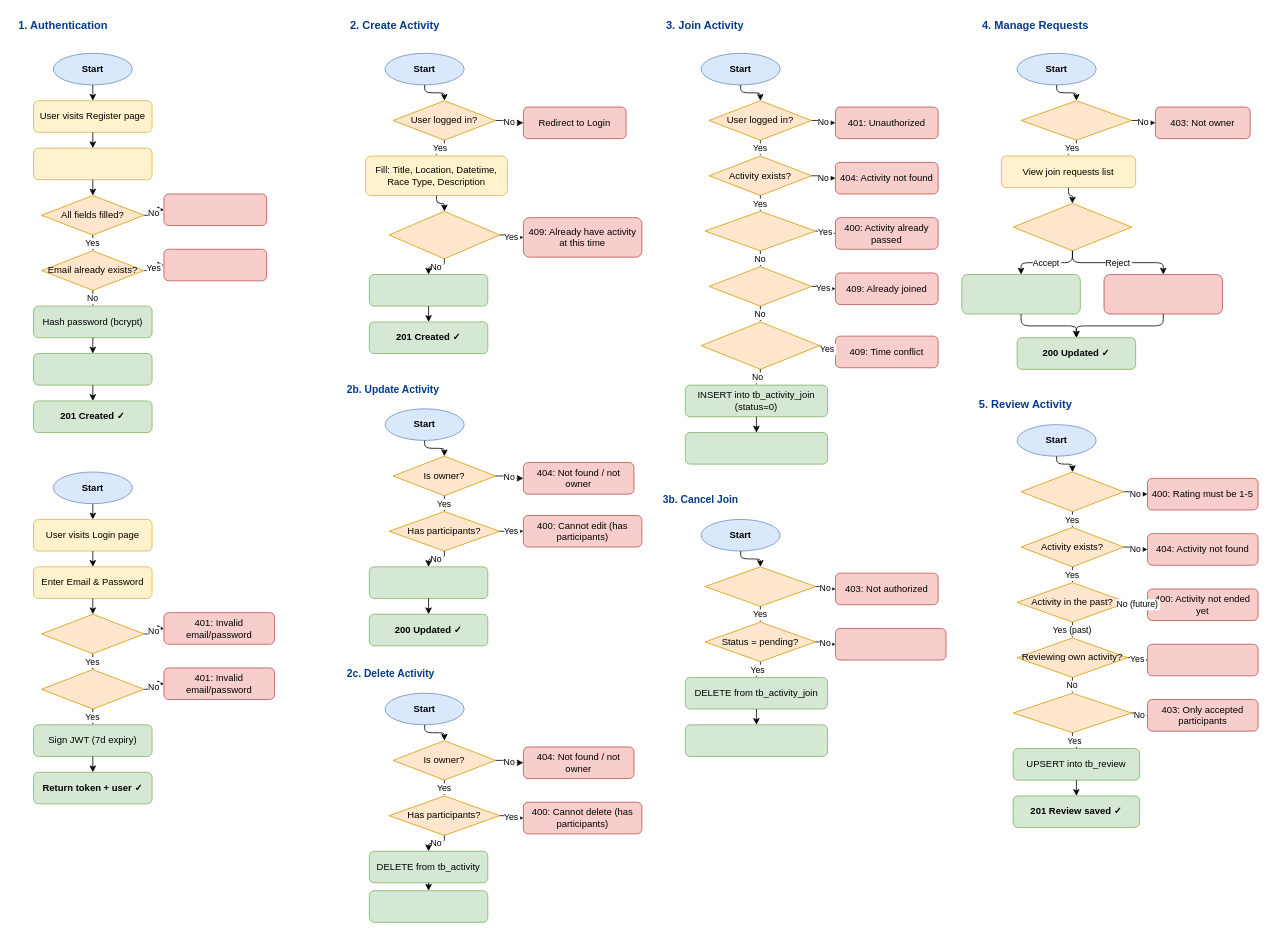
Some shapes in this 1272 by 936 pixel diagram are drawn without their labels. The shapes that lost their labels are listed below. From the top down, each one's centre as x and y in pixels, then its label:
At point (1076, 120): "Is activity owner?".
At point (92, 163): "Fill: First, Last, Email, Password".
At point (215, 209): "400: Missing fields".
At point (1072, 227): "Choose action".
At point (444, 235): "Duplicate datetime for user?".
At point (760, 231): "Activity already passed?".
At point (215, 264): "409: Email already in use".
At point (428, 290): "INSERT into tb_activity".
At point (760, 286): "Already joined?".
At point (1020, 294): "PATCH status = accepted (1)".
At point (1163, 294): "PATCH status = rejected (2)".
At point (760, 345): "Time conflict with another join?".
At point (92, 369): "INSERT user to tb_users".
At point (756, 448): "201 Join request sent ✓".
At point (1072, 491): "Rating 1-5?".
At point (428, 582): "UPDATE tb_activity".
At point (760, 586): "User owns join?".
At point (92, 633): "User exists?".
At point (890, 644): "400: Can only cancel pending".
At point (1202, 659): "403: Cannot review own activity".
At point (92, 689): "Password matches?".
At point (1072, 712): "Was accepted participant?".
At point (756, 740): "200 Cancelled ✓".
At point (428, 906): "200 Deleted ✓".
